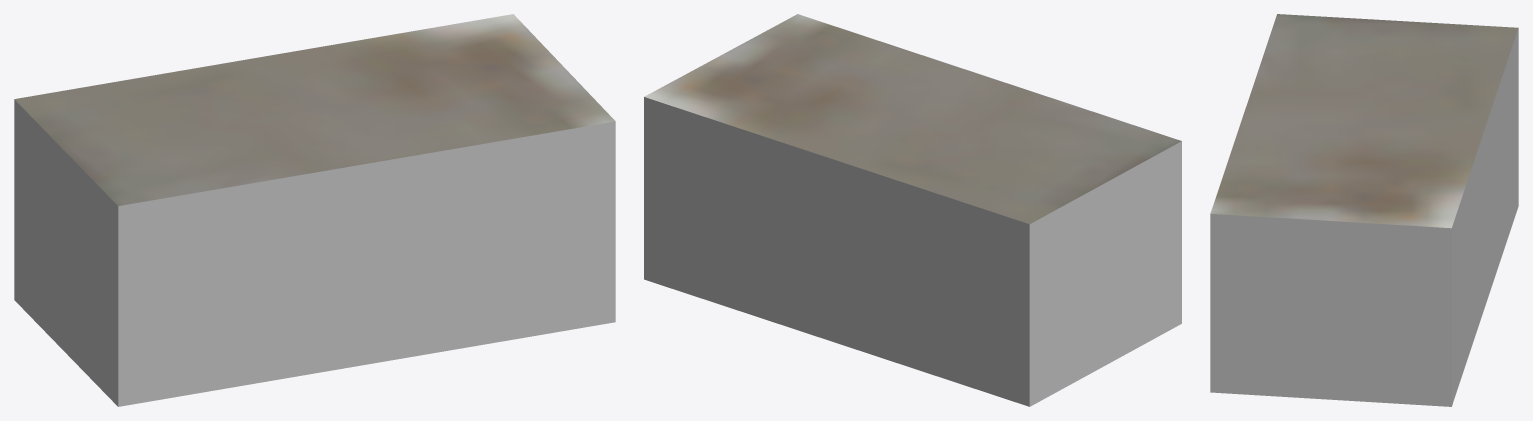
The model's file is DEBW_0010007Txeo.gltf.
3 renders of one model, left to right at view 1: azimuth 30°, elevation 25°; view 2: azimuth 150°, elevation 25°; view 3: azimuth 270°, elevation 25°, orthographic. The views are drawn at different scales.
Parts seen in each view (by area): view 1: Z_UP; view 2: Z_UP; view 3: Z_UP.
Part boxes in pixels (<box>): Z_UP: <box>14,14,615,406</box>; Z_UP: <box>644,14,1181,406</box>; Z_UP: <box>1210,14,1518,406</box>.
Size of the model in its own units: 6.07 by 2.36 by 3.69.
2 materials, 1 textured.
